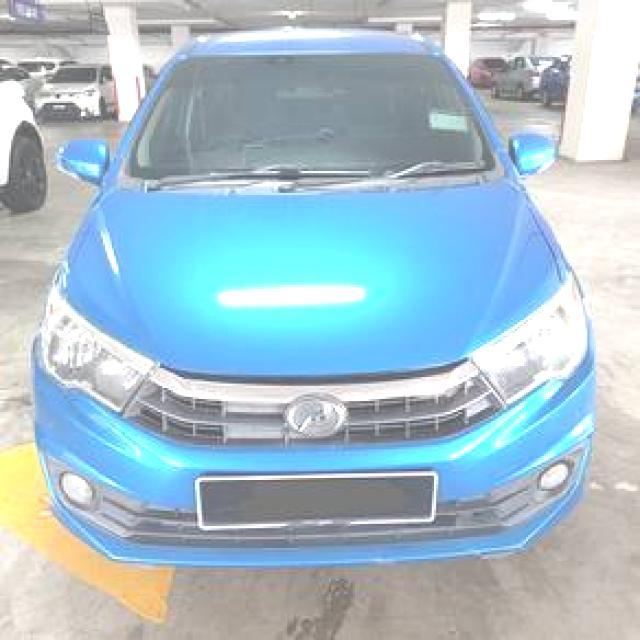PeroduaBezza: (29, 24, 598, 569)
